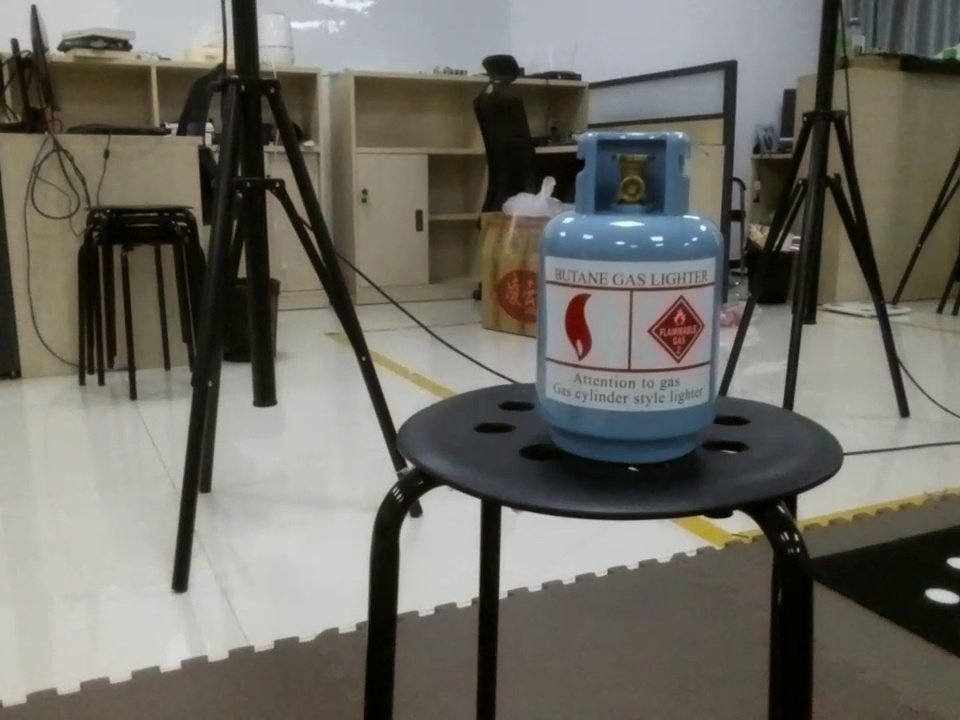gas tank: (522, 121, 734, 473)
